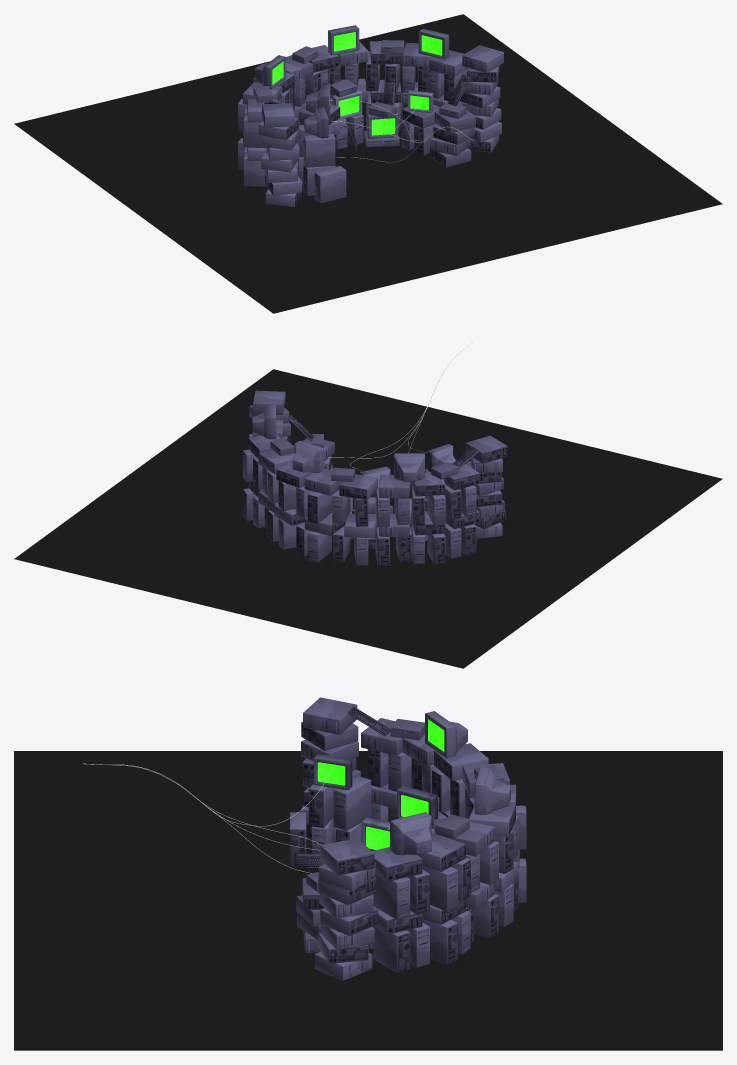
3 views of the same model, one above another, from view 1: azimuth 30°, elevation 25°; view 2: azimuth 150°, elevation 25°; view 3: azimuth 270°, elevation 25° (orthographic). The views are drawn at different scales.
Visible parts, largest first — view 1: Plane, PC 01.011, PC 01.010, PC 02.026, Screen D.003, Screen D.004, PC 02.012, Screen D.002, Screen D.001, PC 01.052, Screen C.001, PC 01.007 (+14 smaller); view 2: Plane, Screen D.003, Screen D.002, PC 02.012, PC 01.032, PC 02.021, Screen D.004, PC 02.026, PC 01.031, PC 01.033, PC 02.016, PC 02.022 (+8 smaller); view 3: Plane, PC 01.005, Screen D.004, PC 02.026, PC 02.012, Screen D.002, PC 02.027, PC 02.032, Screen D.003, Screen B.002, PC 01.052, PC 01.038 (+34 smaller).
Boxes of the visible parts, x1,y1,x2,y2 form: Plane: [14, 14, 722, 313]; PC 01.011: [314, 166, 346, 203]; PC 01.010: [303, 133, 335, 167]; PC 02.026: [462, 45, 503, 73]; Screen D.003: [328, 25, 359, 55]; Screen D.004: [418, 28, 449, 59]; PC 02.012: [262, 103, 294, 127]; Screen D.002: [254, 55, 285, 89]; Screen D.001: [367, 111, 398, 138]; PC 01.052: [429, 50, 467, 76]; Screen C.001: [331, 89, 362, 120]; PC 01.007: [434, 110, 475, 133]; Plane: [14, 369, 722, 668]; Screen D.003: [292, 440, 323, 472]; Screen D.002: [394, 453, 424, 481]; PC 02.012: [465, 435, 507, 463]; PC 01.032: [339, 474, 377, 499]; PC 02.021: [307, 491, 331, 523]; Screen D.004: [252, 404, 276, 439]; PC 02.026: [252, 390, 285, 414]; PC 01.031: [379, 474, 410, 498]; PC 01.033: [304, 469, 341, 495]; PC 02.016: [307, 531, 331, 562]; PC 02.022: [411, 472, 445, 496]; Plane: [14, 751, 722, 1050]; PC 01.005: [333, 776, 371, 830]; Screen D.004: [390, 812, 431, 855]; PC 02.026: [320, 838, 374, 875]; PC 02.012: [303, 697, 357, 734]; Screen D.002: [425, 711, 467, 758]; PC 02.027: [373, 925, 410, 972]; PC 02.032: [373, 874, 410, 919]; Screen D.003: [475, 767, 510, 814]; Screen B.002: [313, 754, 352, 790]; PC 01.052: [372, 847, 422, 881]; PC 01.038: [422, 919, 458, 964].
Bounding box in the file's own units: 26 × 5.55 × 26.
3 materials, 1 textured.
